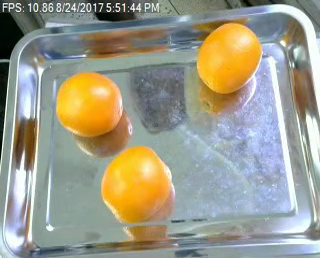Orange: (100, 145, 172, 223), (196, 22, 262, 92), (55, 71, 123, 137)
